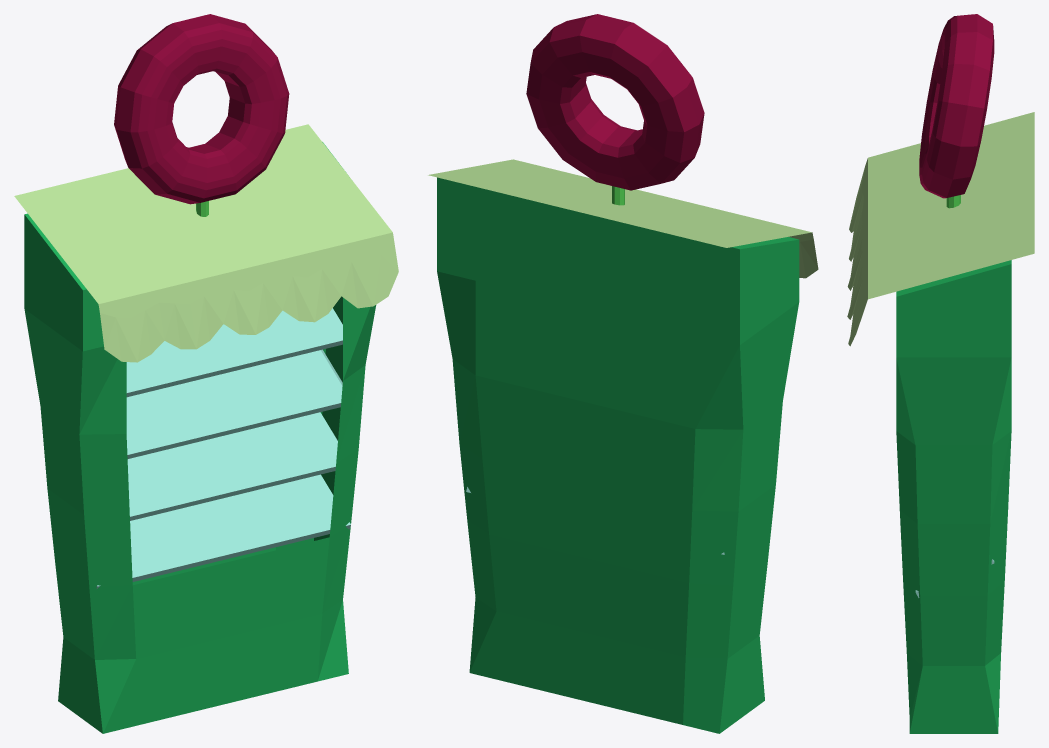
Rendered from donas.fbx.
The picture shows the model from 3 angles, left to right: view 1: azimuth 30°, elevation 25°; view 2: azimuth 150°, elevation 25°; view 3: azimuth 270°, elevation 25°; orthographic projection. The views are drawn at different scales.
Parts seen in each view (by area): view 1: puesto_donas; view 2: puesto_donas; view 3: puesto_donas.
Part boxes in pixels (x1,y1,x2,y2): puesto_donas: (14, 14, 398, 733); puesto_donas: (428, 14, 818, 733); puesto_donas: (847, 14, 1034, 733).
Size of the model in its own units: 56.44 by 119 by 31.13.
